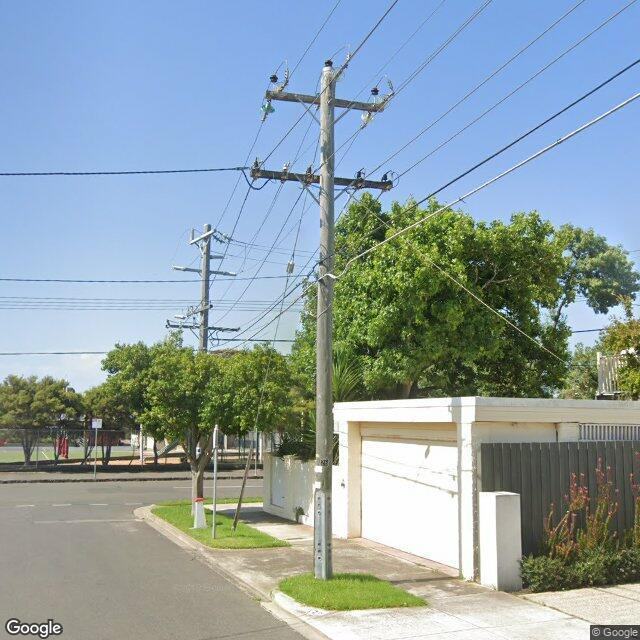HV-transmission: (260, 45, 397, 129), (190, 227, 233, 248)
crossarm: (250, 168, 393, 191), (266, 90, 383, 114), (171, 265, 236, 276), (168, 324, 240, 332), (189, 229, 216, 245), (185, 304, 214, 316), (208, 255, 224, 259)
timber-pole: (313, 72, 336, 580), (199, 224, 212, 452)
